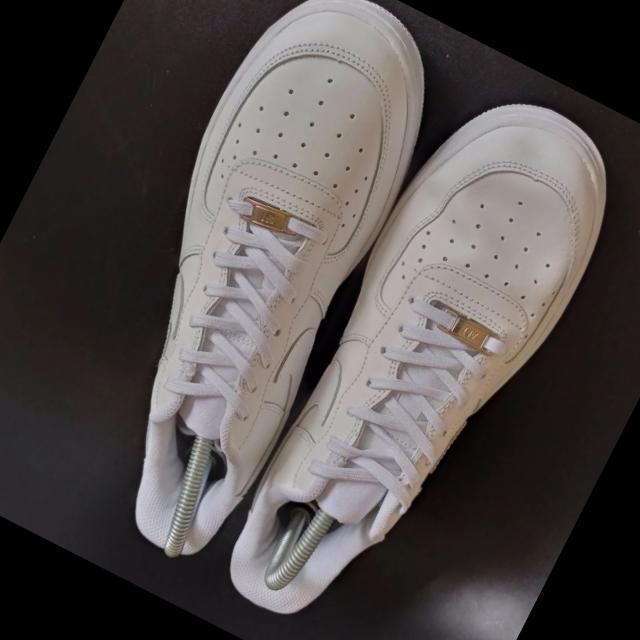nike fake air force: (20, 0, 478, 588), (201, 58, 640, 640)
